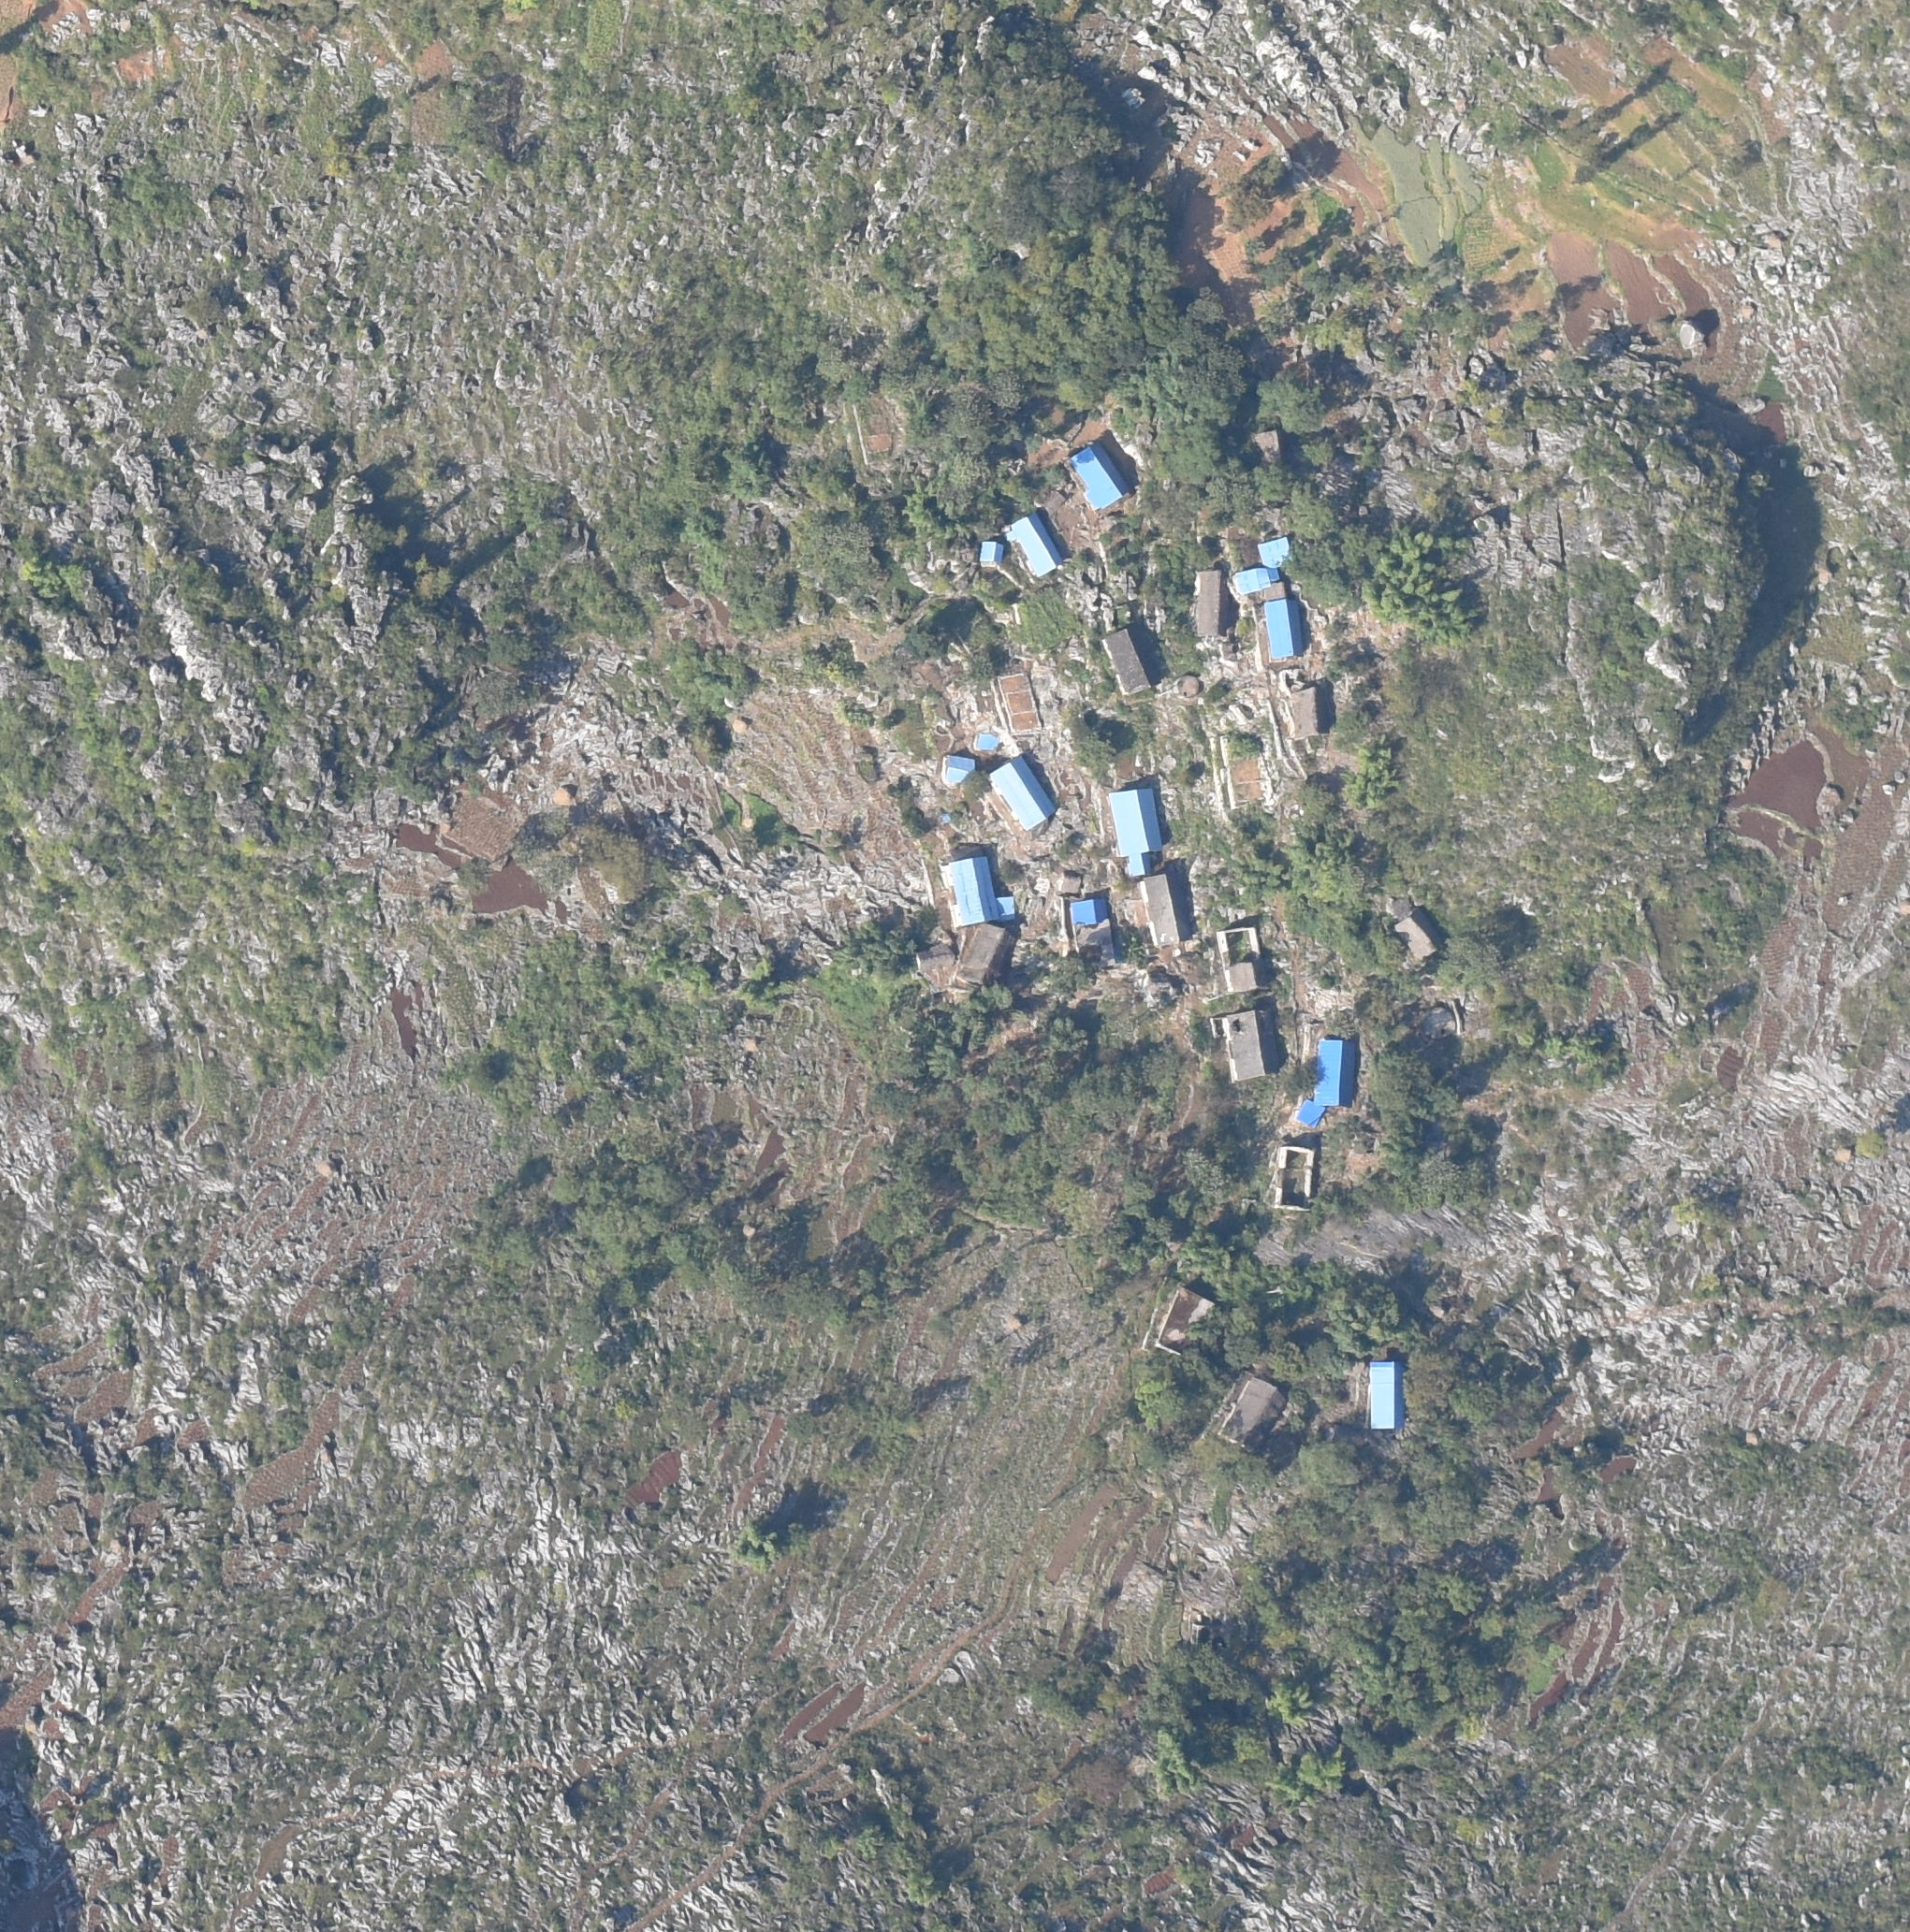building: (1220, 1376, 1286, 1456), (1157, 1287, 1216, 1360), (1105, 623, 1159, 695), (1226, 1008, 1278, 1080), (1141, 872, 1188, 943), (958, 925, 1010, 988), (1198, 567, 1232, 640), (1289, 683, 1326, 740), (1398, 908, 1438, 959), (914, 941, 955, 973), (1256, 429, 1286, 470), (1224, 964, 1263, 991)
prefabricated-house: (1109, 790, 1164, 878), (992, 759, 1054, 825), (1072, 440, 1130, 508), (1003, 510, 1061, 576), (946, 856, 996, 924), (1319, 1037, 1356, 1107), (1263, 597, 1305, 659), (1370, 1363, 1407, 1428), (1233, 564, 1276, 594), (1259, 535, 1292, 569), (1069, 897, 1106, 925), (942, 753, 976, 784), (1298, 1100, 1325, 1127), (980, 541, 1004, 569), (998, 896, 1019, 922), (975, 732, 995, 749)
well: (1426, 1006, 1459, 1039), (1178, 672, 1204, 698)
